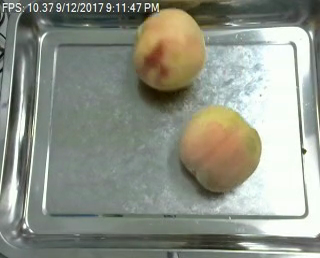Peach: (178, 105, 262, 192), (132, 7, 206, 90)
